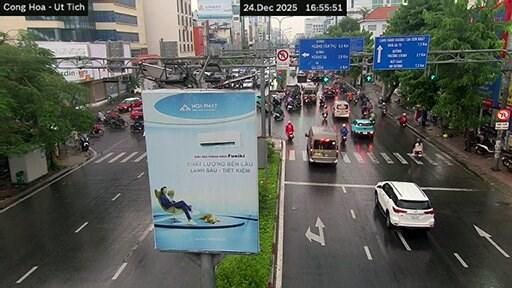motorbike: (475, 140, 494, 154), (79, 134, 90, 152), (501, 153, 511, 171), (109, 118, 127, 128), (286, 100, 301, 111), (89, 124, 103, 135), (130, 121, 143, 131), (412, 147, 422, 159), (303, 94, 313, 104), (399, 116, 406, 128), (273, 112, 283, 120), (319, 97, 325, 107), (340, 135, 346, 145), (381, 106, 387, 116), (287, 132, 293, 141), (322, 112, 327, 120)
